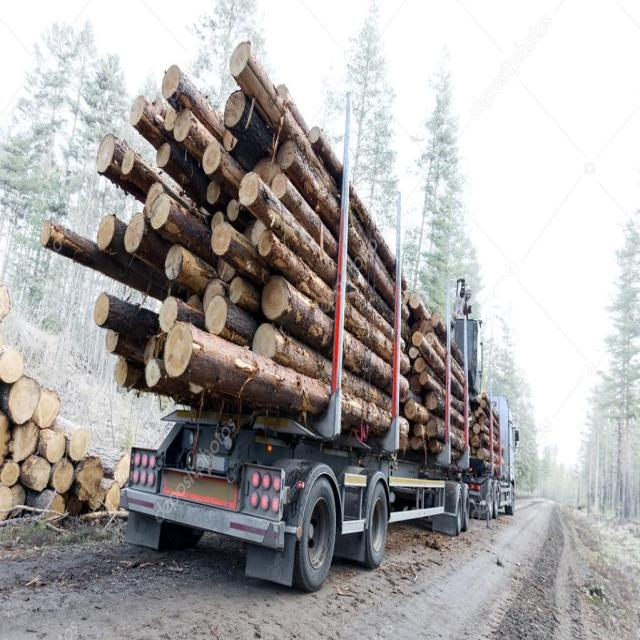Truck: (113, 278, 522, 584)
